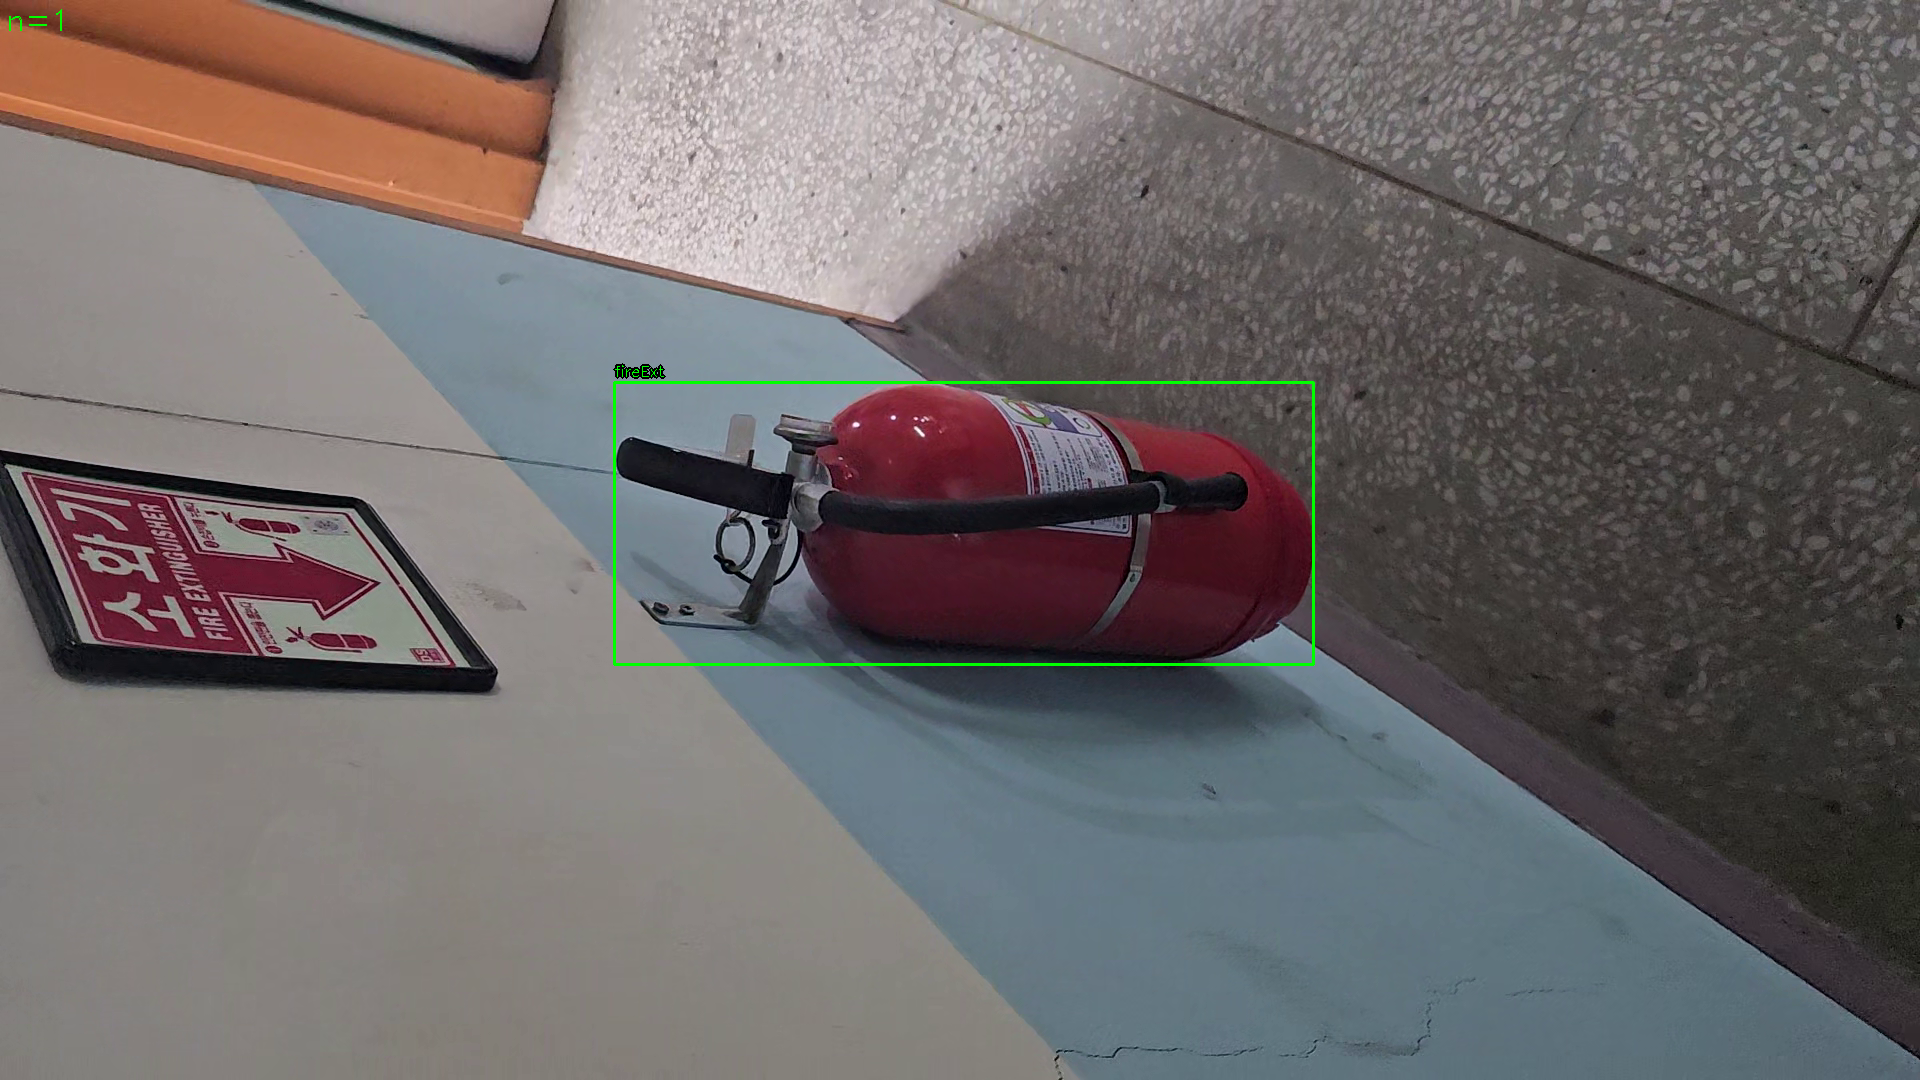lane: (615, 382, 1313, 665)
